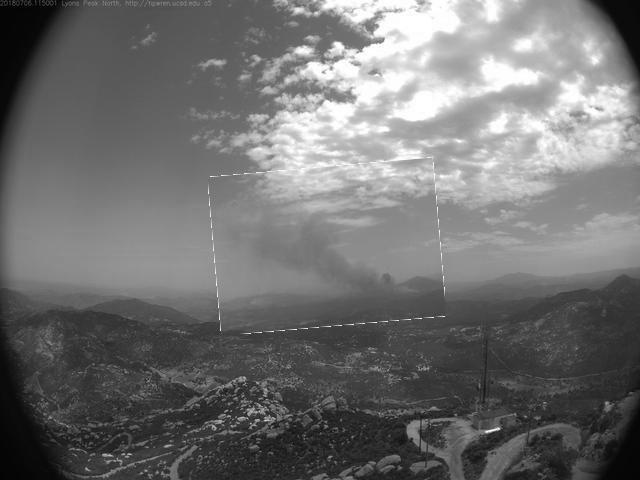smoke: (212, 163, 444, 332)
